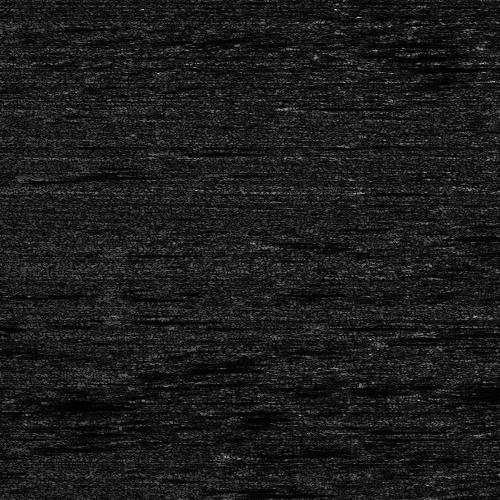object: (6, 173, 69, 178), (276, 104, 307, 107)
shadow: (38, 173, 134, 178), (292, 104, 414, 107)
